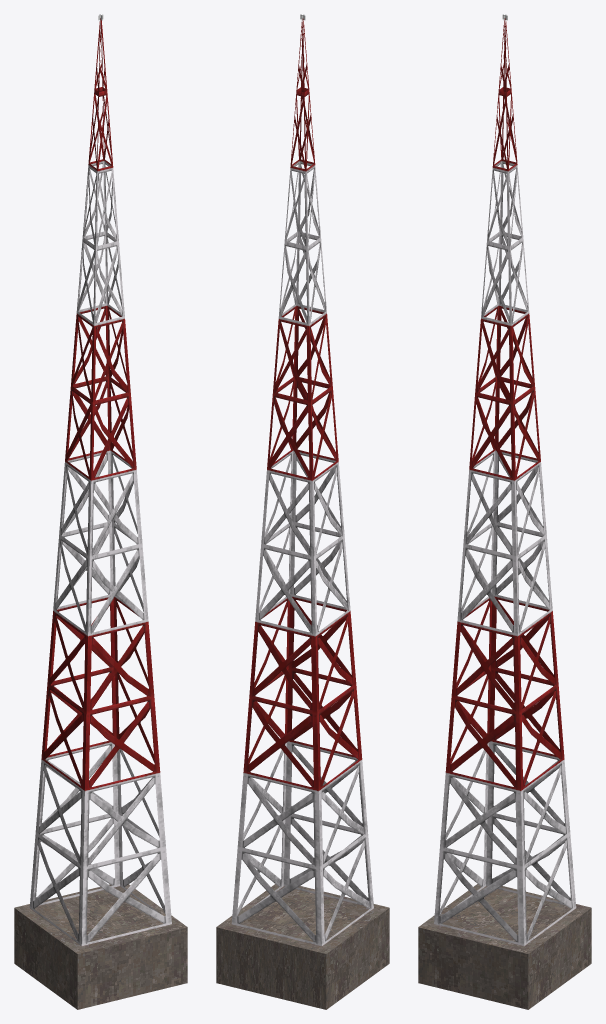
File: COMTOWR1.glb
3 renders of one model, left to right at view 1: azimuth 30°, elevation 25°; view 2: azimuth 150°, elevation 25°; view 3: azimuth 330°, elevation 25°, orthographic.
Visible parts, largest first — view 1: _COMTOWR1; view 2: _COMTOWR1; view 3: _COMTOWR1.
Boxes of the visible parts, <box> form: _COMTOWR1: <box>14,14,187,1009</box>; _COMTOWR1: <box>216,14,389,1009</box>; _COMTOWR1: <box>418,14,591,1009</box>.
Bounding box in the file's own units: 5.58 × 46.41 × 5.57.
Materials: 3 (2 with a texture image).
